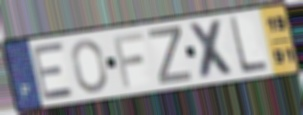E: (30, 40, 76, 102)
F: (111, 30, 146, 89)
L: (227, 14, 269, 77)
O: (69, 37, 109, 95)
X: (186, 18, 239, 82)
Z: (146, 24, 195, 87)
